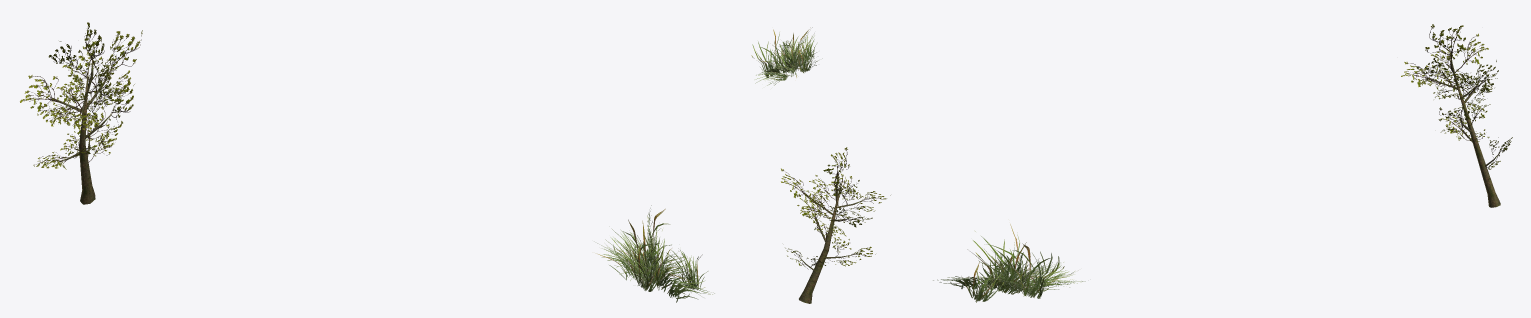
File: arbolesC.obj
The picture shows the model from 3 angles, left to right: view 1: azimuth 30°, elevation 25°; view 2: azimuth 150°, elevation 25°; view 3: azimuth 270°, elevation 25°; orthographic projection. The views are drawn at different scales.
Visible parts, largest first — view 1: Rama_001-material.002, Medium_bush_3_phong3_0.005; view 2: Rama_001-material.002, Medium_bush_3_phong3_0.005; view 3: Rama_001-material.002, Medium_bush_3_phong3_0.005.
Part boxes in pixels (x1,y1,x2,y2): Rama_001-material.002: [20, 22, 142, 204]; Medium_bush_3_phong3_0.005: [594, 205, 714, 302]; Rama_001-material.002: [781, 147, 890, 303]; Medium_bush_3_phong3_0.005: [751, 27, 822, 85]; Rama_001-material.002: [1401, 24, 1512, 207]; Medium_bush_3_phong3_0.005: [933, 224, 1085, 302].
Bounding box in the file's own units: 76.85 × 35.94 × 106.
3 materials, 3 textured.
